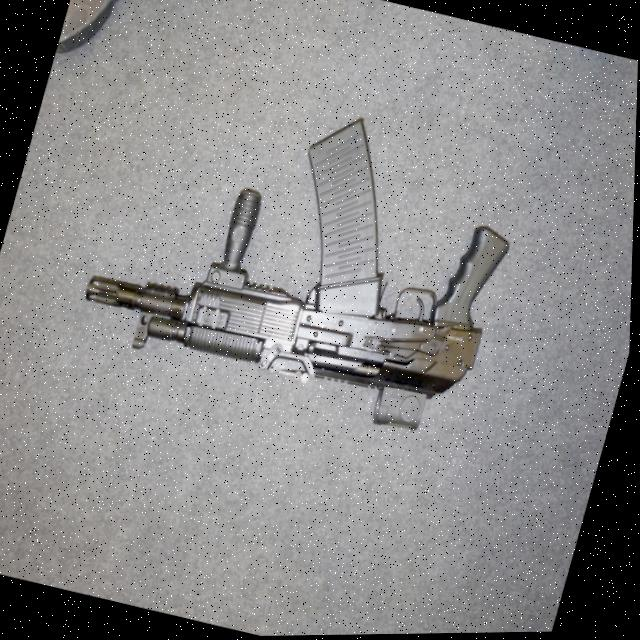firearm: (66, 68, 537, 452)
